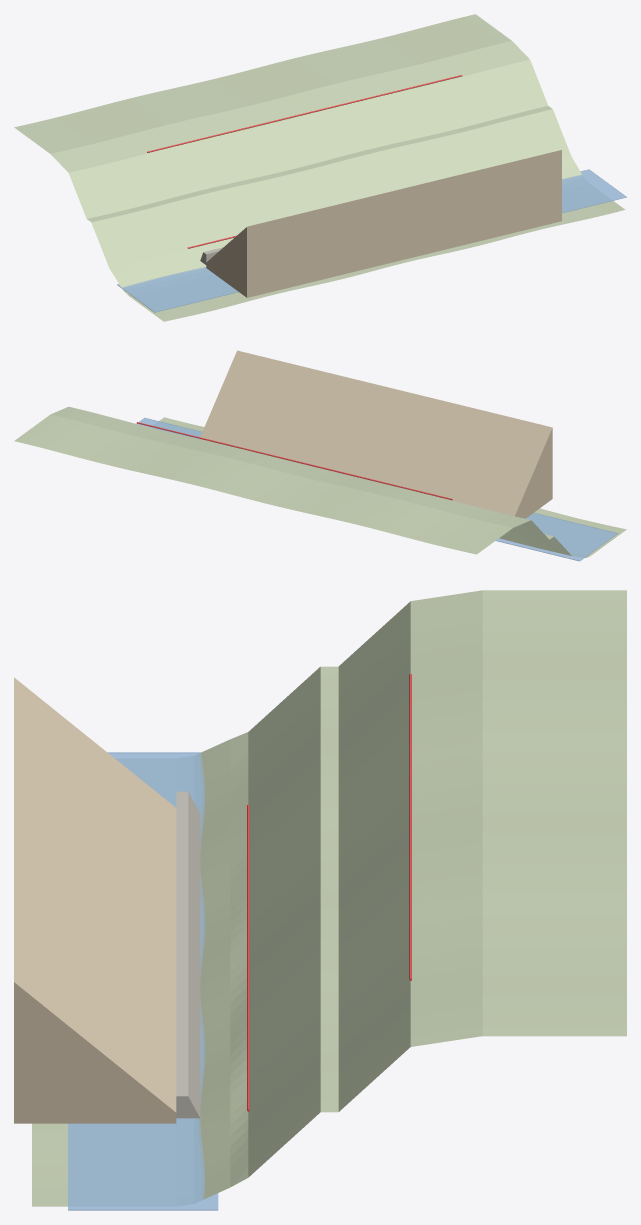
The picture shows the model from 3 angles, top to bottom: view 1: azimuth 30°, elevation 25°; view 2: azimuth 150°, elevation 25°; view 3: azimuth 270°, elevation 25°; orthographic projection. The views are drawn at different scales.
Visible parts, largest first — view 1: 地形|現況地形 (参考), 法面|法面 (標準断面 1:1.0 スイープ), 地形|水面 (参考), 線形|法面保護工 範囲 (法肩線・法尻線); view 2: 法面|法面 (標準断面 1:1.0 スイープ), 地形|現況地形 (参考), 地形|水面 (参考), 線形|法面保護工 範囲 (法肩線・法尻線); view 3: 地形|現況地形 (参考), 法面|法面 (標準断面 1:1.0 スイープ), 地形|水面 (参考), かご工|かご工 (3段を一体化した台形ブロック), 線形|法面保護工 範囲 (法肩線・法尻線).
Part boxes in pixels (x1,y1,x2,y2): 地形|現況地形 (参考): (14, 14, 625, 321); 法面|法面 (標準断面 1:1.0 スイープ): (206, 150, 561, 297); 地形|水面 (参考): (117, 169, 626, 312); 線形|法面保護工 範囲 (法肩線・法尻線): (147, 75, 462, 248); 法面|法面 (標準断面 1:1.0 スイープ): (199, 350, 552, 518); 地形|現況地形 (参考): (14, 406, 626, 557); 地形|水面 (参考): (136, 417, 617, 561); 線形|法面保護工 範囲 (法肩線・法尻線): (136, 422, 452, 500); 地形|現況地形 (参考): (32, 590, 626, 1206); 法面|法面 (標準断面 1:1.0 スイープ): (14, 677, 176, 1123); 地形|水面 (参考): (68, 752, 218, 1210); かご工|かご工 (3段を一体化した台形ブロック): (176, 791, 200, 1118); 線形|法面保護工 範囲 (法肩線・法尻線): (247, 674, 411, 1111).
Size of the model in its own units: 90 by 15.7 by 51.
